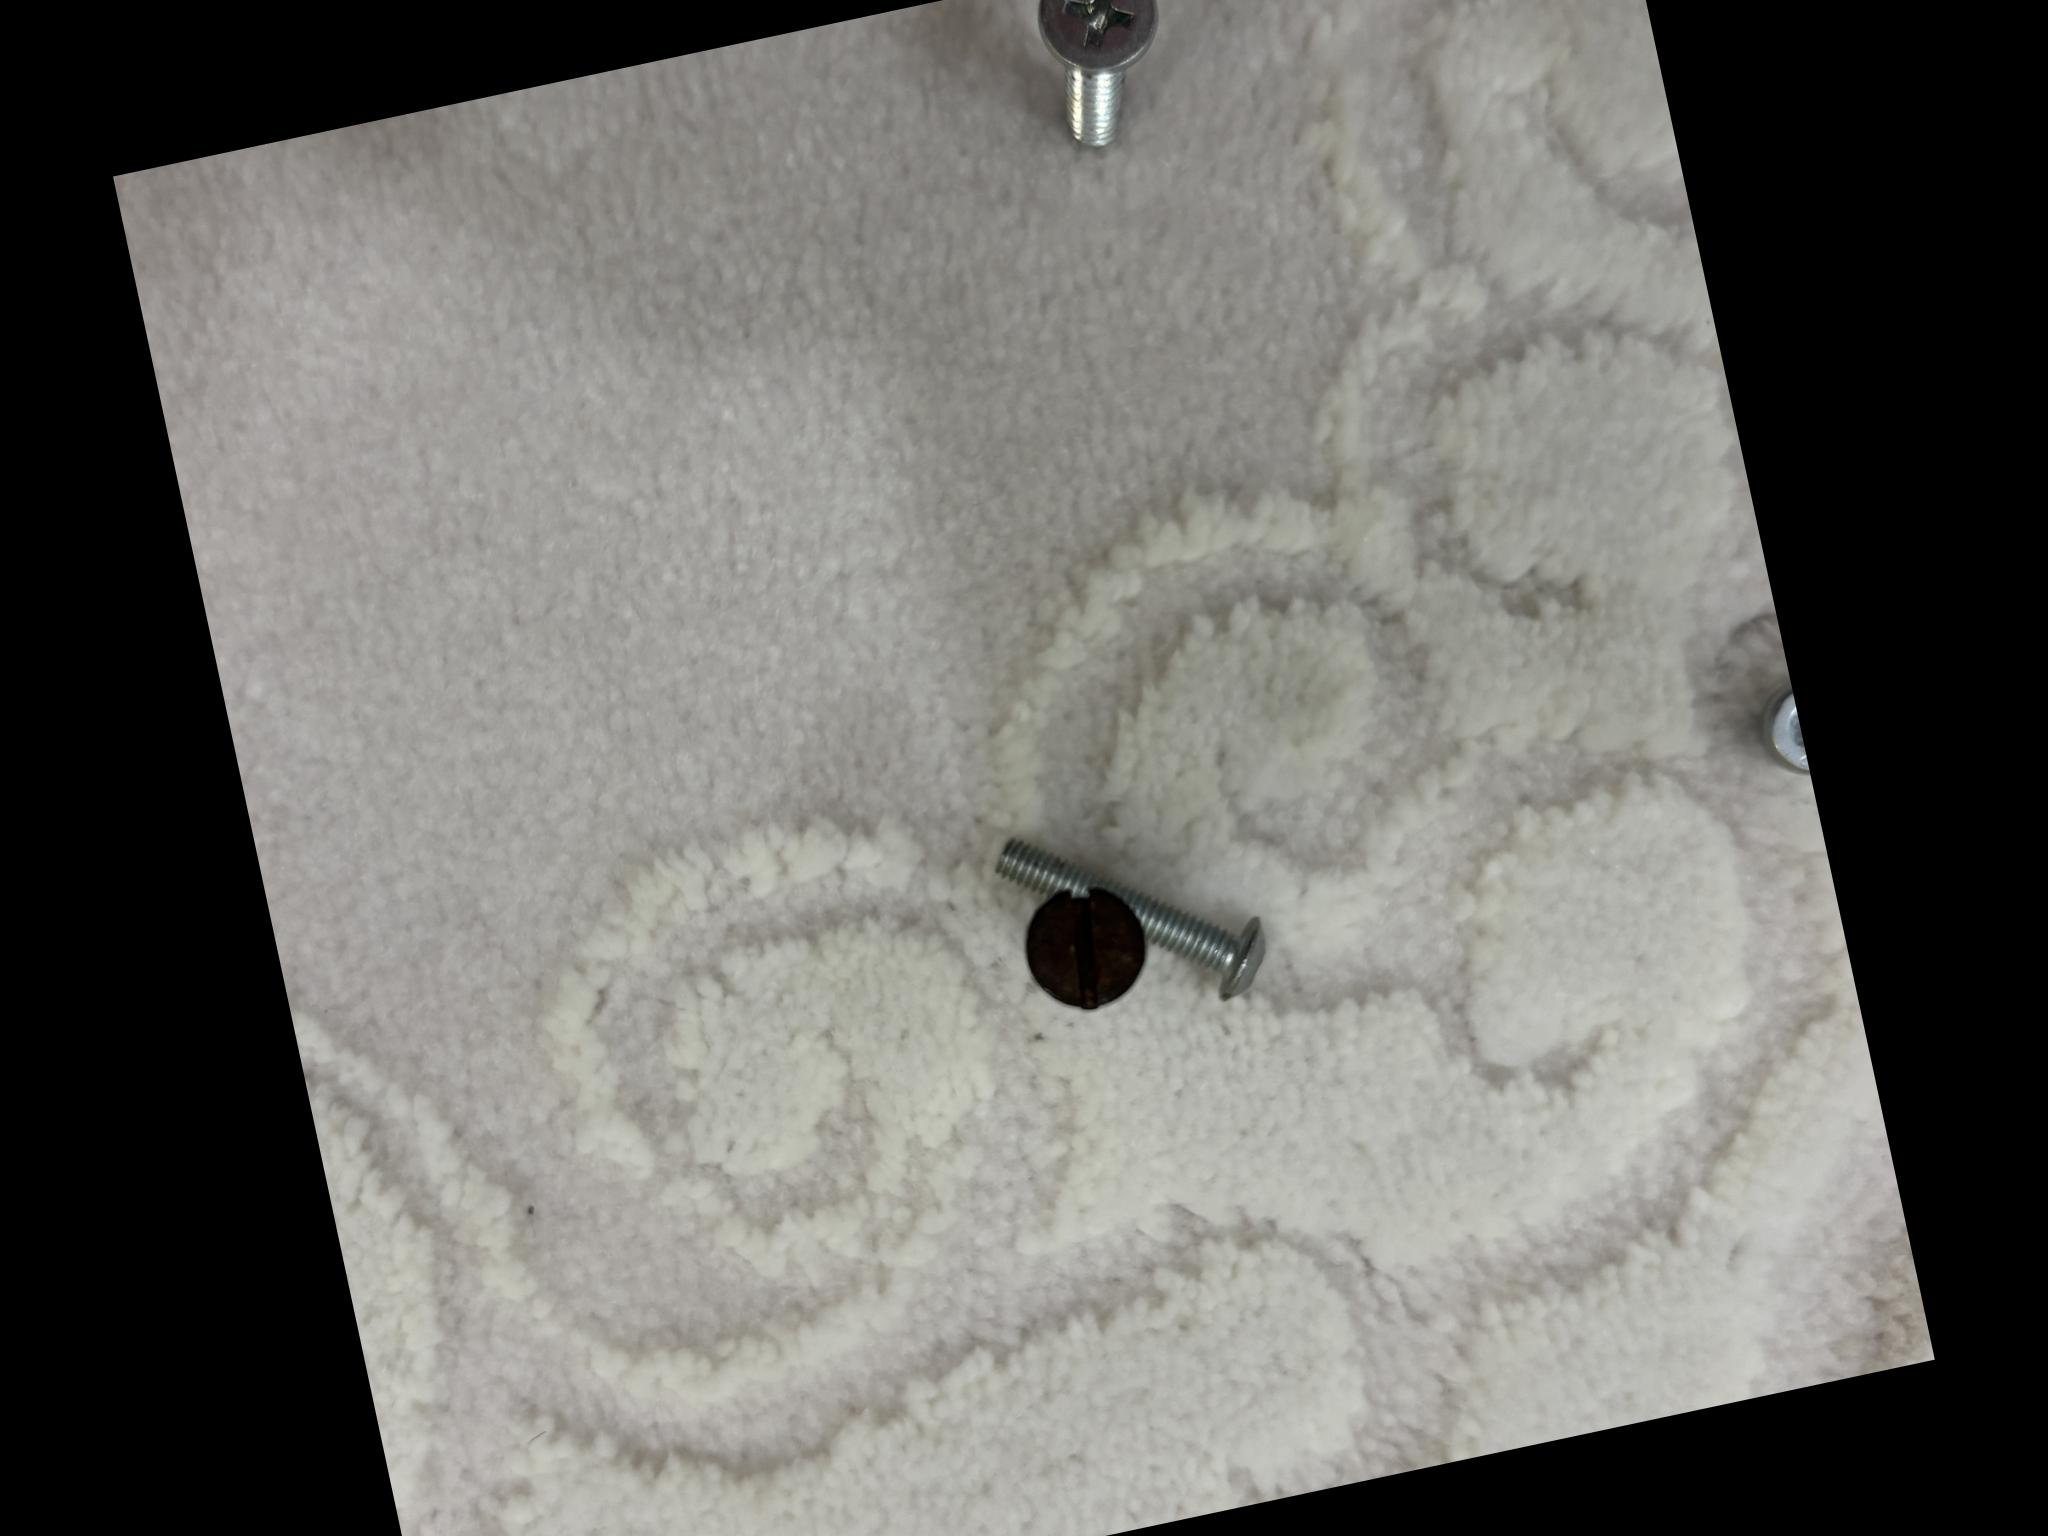SL: (948, 950, 1069, 1070)
